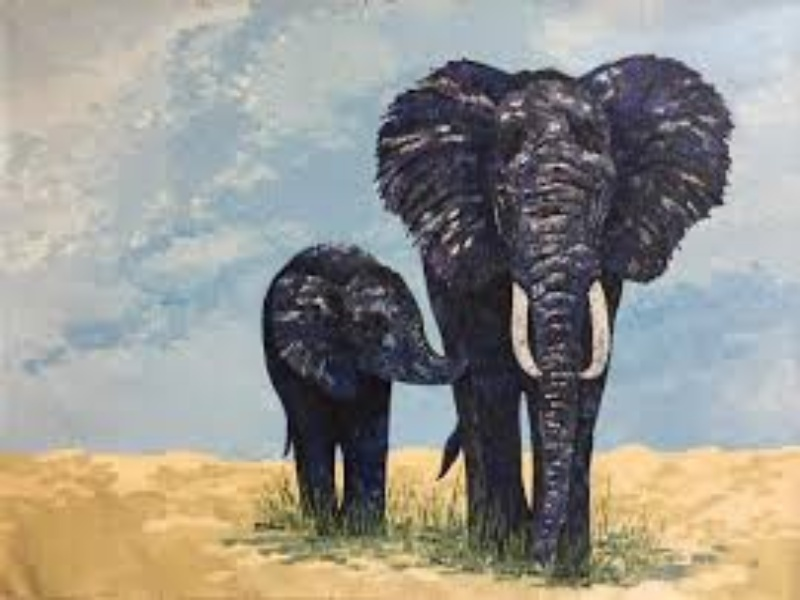elephant: (212, 42, 722, 576)
